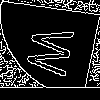W: (25, 25, 85, 79)
